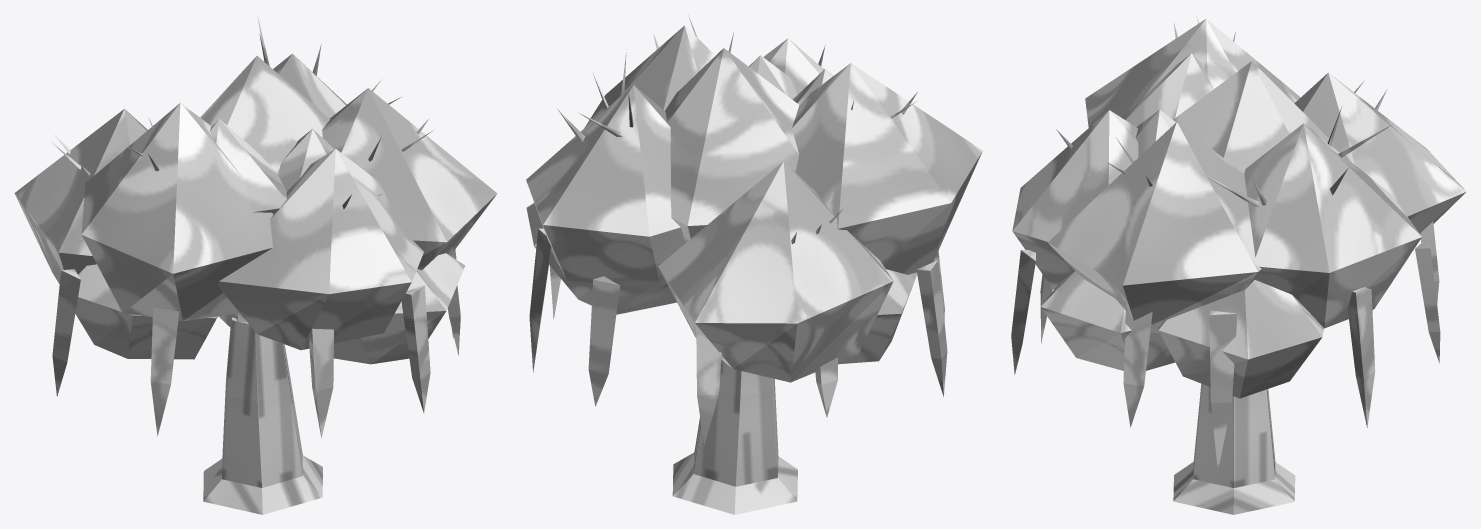
File: tree_anima.obj
The picture shows the model from 3 angles, left to right: view 1: azimuth 30°, elevation 25°; view 2: azimuth 150°, elevation 25°; view 3: azimuth 270°, elevation 25°; orthographic projection. The views are drawn at different scales.
Visible parts, largest first — view 1: tree_anima; view 2: tree_anima; view 3: tree_anima.
Boxes of the visible parts, x1,y1,x2,y2 form: tree_anima: (14, 16, 497, 514); tree_anima: (526, 15, 982, 514); tree_anima: (1011, 16, 1466, 514).
Size of the model in its own units: 1.01 by 1.03 by 0.9889.
